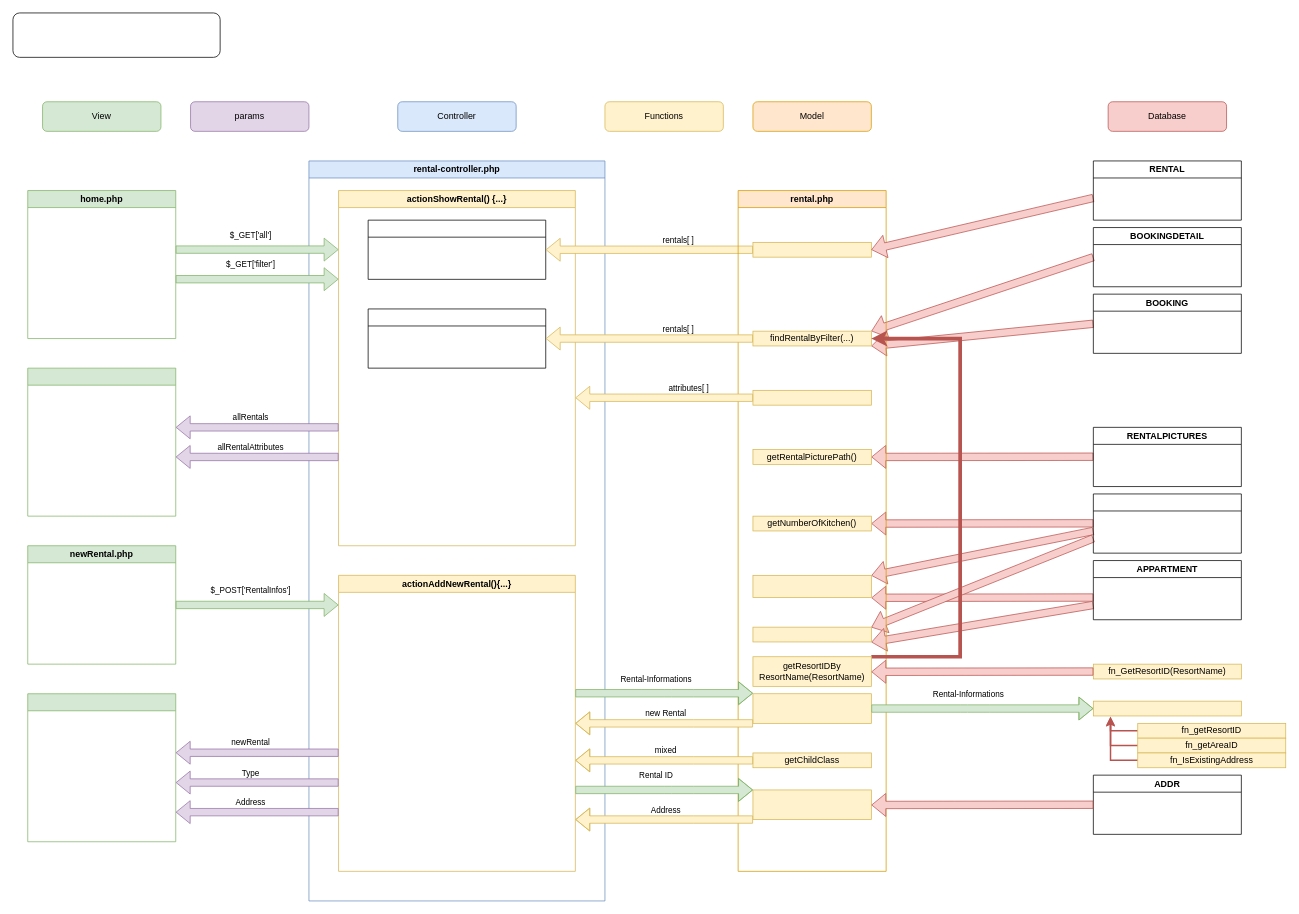
Image size: 1299x914. Some labels were removed from this diagram. Here are the shapes that lost their labels. From the top down, the centre of each, then its label:
At (x=116, y=34): "MVC - Rental".
At (x=456, y=249): "case showAll".
At (x=811, y=249): "getAllRentals()".
At (x=456, y=338): "case filter".
At (x=811, y=397): "getAttributes()".
At (x=101, y=441): "showRental.php".
At (x=1167, y=523): "HOUSE".
At (x=811, y=586): "getTypeOFRental- OutdoorSeating()".
At (x=811, y=634): "getRentalType()".
At (x=811, y=708): "newRental(RentalInfos)".
At (x=1167, y=708): "call_newRental(..)".
At (x=101, y=767): "addNewRental.php".
At (x=811, y=804): "getAddressFrom Rental(RentalID)".
